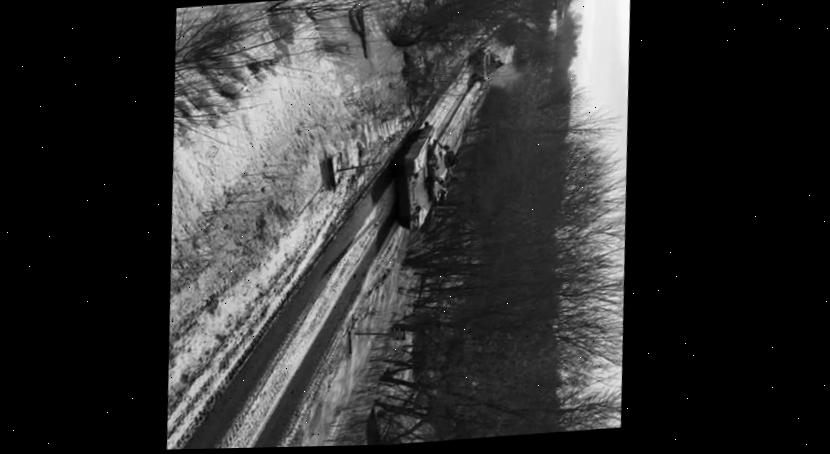tank: (387, 121, 459, 233), (466, 43, 508, 88)
